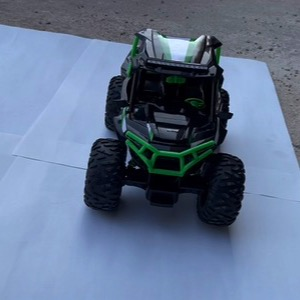polaris: (83, 28, 247, 230)
